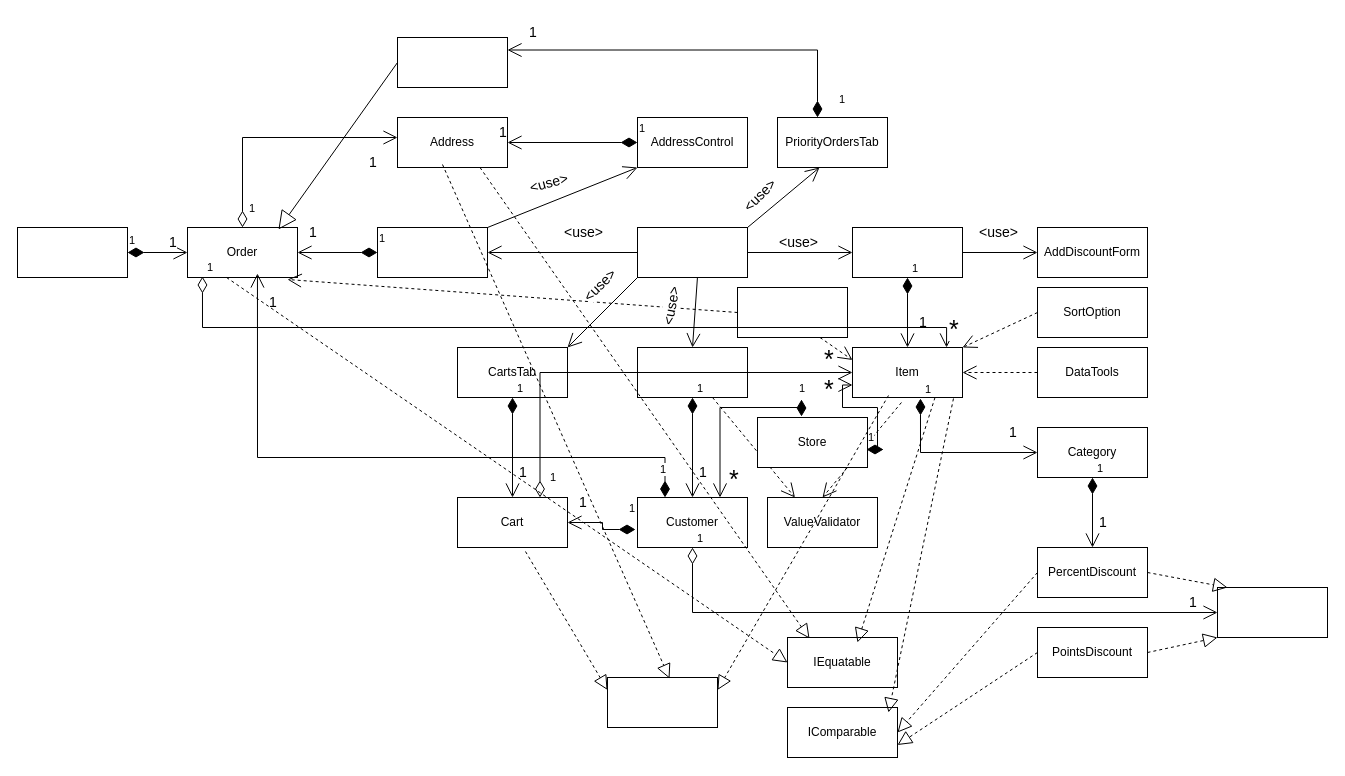
This 1345x776 diagram has some shape labels left out. The centre of each missing label's shape, as x and y in pixels:
CustomersTab: (x=692, y=372)
ICloneable: (x=662, y=702)
IdGenerator: (x=792, y=312)
IDiscount: (x=1272, y=612)
ItemsTab: (x=907, y=252)
MainForm: (x=692, y=252)
OrdersTab: (x=432, y=252)
OrderStatus: (x=72, y=252)
PriorityOrder: (x=452, y=62)
